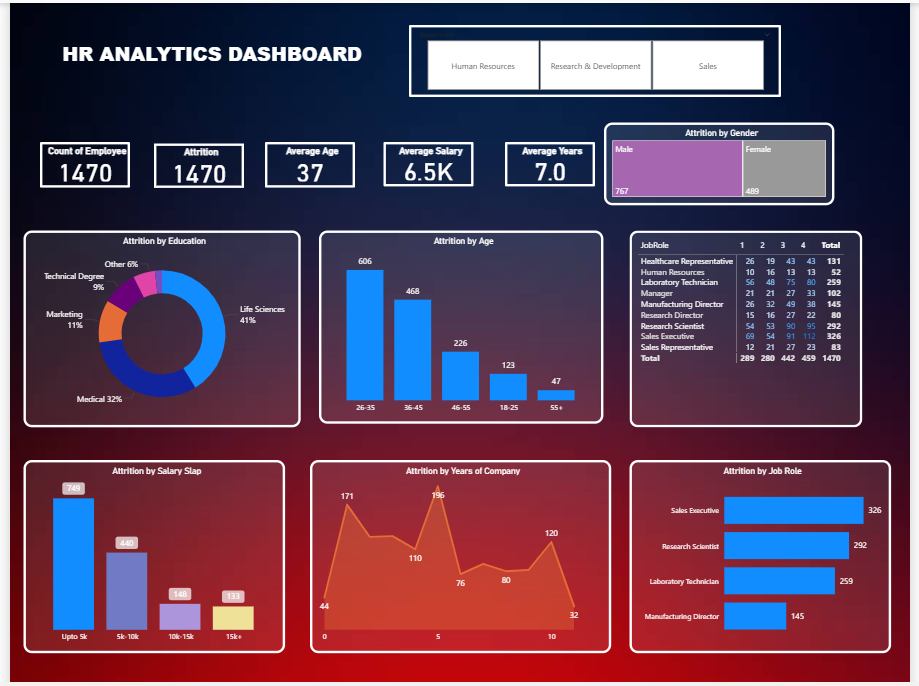

This screenshot's page, from the dashboard's own definition file:
{"tool":"powerbi","page":{"name":"Page 1","canvas":[1500,1200],"ordinal":0},"visuals":[{"type":"card","title":"Count of Employee","fields":{"Values":["CountNonNull(HR_Analytics.EmpID)"]},"box":[50,240,150,76],"z":0},{"type":"card","title":"Average Age","fields":{"Values":["Avg(HR_Analytics.Age)"]},"box":[426,240,150,76],"z":3},{"type":"card","title":"Average Salary","fields":{"Values":["Avg(HR_Analytics.MonthlyIncome)"]},"box":[622,240,150,74],"z":4},{"type":"card","title":"Average Years","fields":{"Values":["Avg(HR_Analytics.YearsAtCompany)"]},"box":[824,240,150,74],"z":5},{"type":"donutChart","title":"Attrition by Education","fields":{"Category":["HR_Analytics.EducationField"],"Y":["CountNonNull(HR_Analytics.AttritionCount)"]},"box":[22,388,462,328],"z":6},{"type":"columnChart","title":"Attrition by Age","fields":{"Category":["HR_Analytics.AgeGroup"],"Y":["CountNonNull(HR_Analytics.AttritionCount)"]},"box":[514,388,474,322],"z":7},{"type":"pivotTable","fields":{"Rows":["HR_Analytics.JobRole"],"Columns":["HR_Analytics.JobSatisfaction"],"Values":["CountNonNull(HR_Analytics.Attrition)"]},"box":[1032,388,388,328],"z":8},{"type":"card","title":"Attrition","fields":{"Values":["CountNonNull(HR_Analytics.AttritionCount)"]},"box":[240,242,150,74],"z":9},{"type":"lineStackedColumnComboChart","title":"Attrition by Salary Slap","fields":{"Category":["HR_Analytics.SalarySlab"],"Y":["CountNonNull(HR_Analytics.AttritionCount)"]},"box":[22,770,436,322],"z":10},{"type":"barChart","title":"Attrition by Job Role","fields":{"Category":["HR_Analytics.JobRole"],"Y":["CountNonNull(HR_Analytics.AttritionCount)"]},"box":[1032,770,436,322],"z":11},{"type":"areaChart","title":"Attrition by Years of Company","fields":{"Category":["HR_Analytics.YearsAtCompany"],"Y":["CountNonNull(HR_Analytics.AttritionCount)"]},"box":[500,770,502,322],"z":12},{"type":"treemap","title":"Attrition by Gender","fields":{"Group":["HR_Analytics.Gender"],"Values":["CountNonNull(HR_Analytics.AttritionCount)"]},"box":[990,208,384,138],"z":13},{"type":"slicer","fields":{"Values":["HR_Analytics.Department"]},"box":[664,46,620,120],"z":14},{"type":"textbox","box":[50,64,600,88],"z":15}]}

Visuals, with their boxes in screenshot pixels (x1, y1, x2, y2):
"Count of Employee" card: [left=56, top=148, right=143, bottom=192]
"Average Age" card: [left=276, top=148, right=363, bottom=192]
"Average Salary" card: [left=390, top=148, right=478, bottom=191]
"Average Years" card: [left=509, top=148, right=596, bottom=191]
"Attrition by Education" donutChart: [left=39, top=234, right=310, bottom=426]
"Attrition by Age" columnChart: [left=327, top=234, right=605, bottom=423]
pivotTable - HR_Analytics.JobRole x HR_Analytics.JobSatisfaction: [left=630, top=234, right=857, bottom=426]
"Attrition" card: [left=167, top=149, right=255, bottom=192]
"Attrition by Salary Slap" lineStackedColumnComboChart: [left=39, top=458, right=294, bottom=646]
"Attrition by Job Role" barChart: [left=630, top=458, right=885, bottom=646]
"Attrition by Years of Company" areaChart: [left=319, top=458, right=613, bottom=646]
"Attrition by Gender" treemap: [left=606, top=129, right=830, bottom=210]
slicer - HR_Analytics.Department: [left=415, top=34, right=778, bottom=104]
textbox: [left=56, top=45, right=407, bottom=96]
